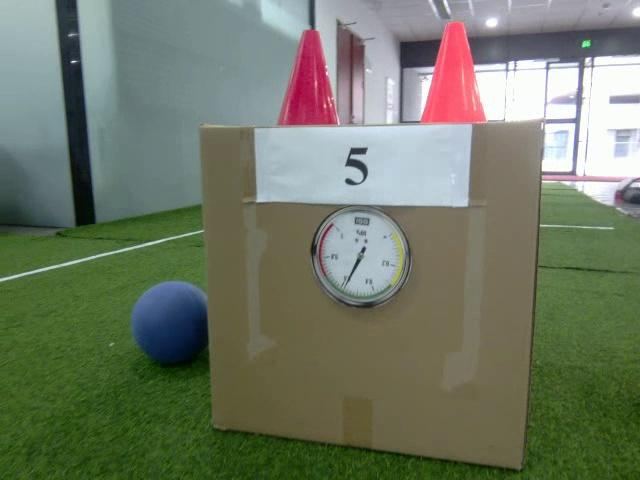5: (343, 145, 368, 186)
Dashboard: (311, 207, 410, 309)
blue_ball: (130, 282, 208, 366)
orange_barrel: (419, 20, 488, 125), (276, 28, 343, 126)
ssi: (354, 217, 370, 225)
